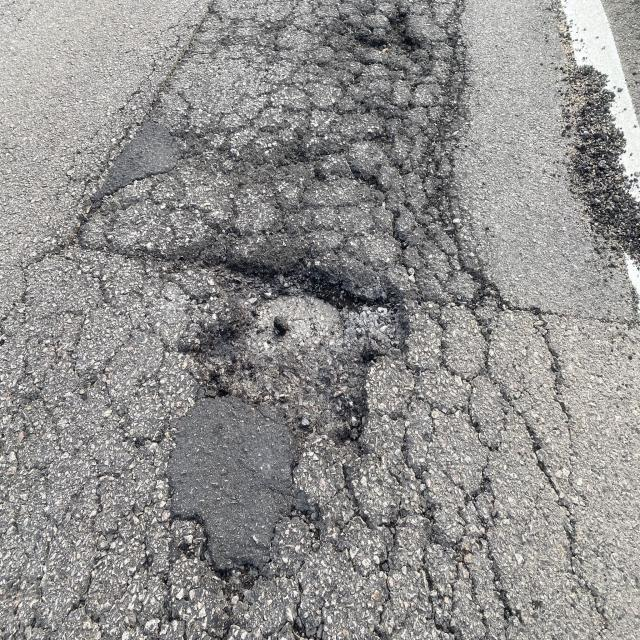Pothole: (174, 224, 434, 640), (296, 0, 492, 152)
